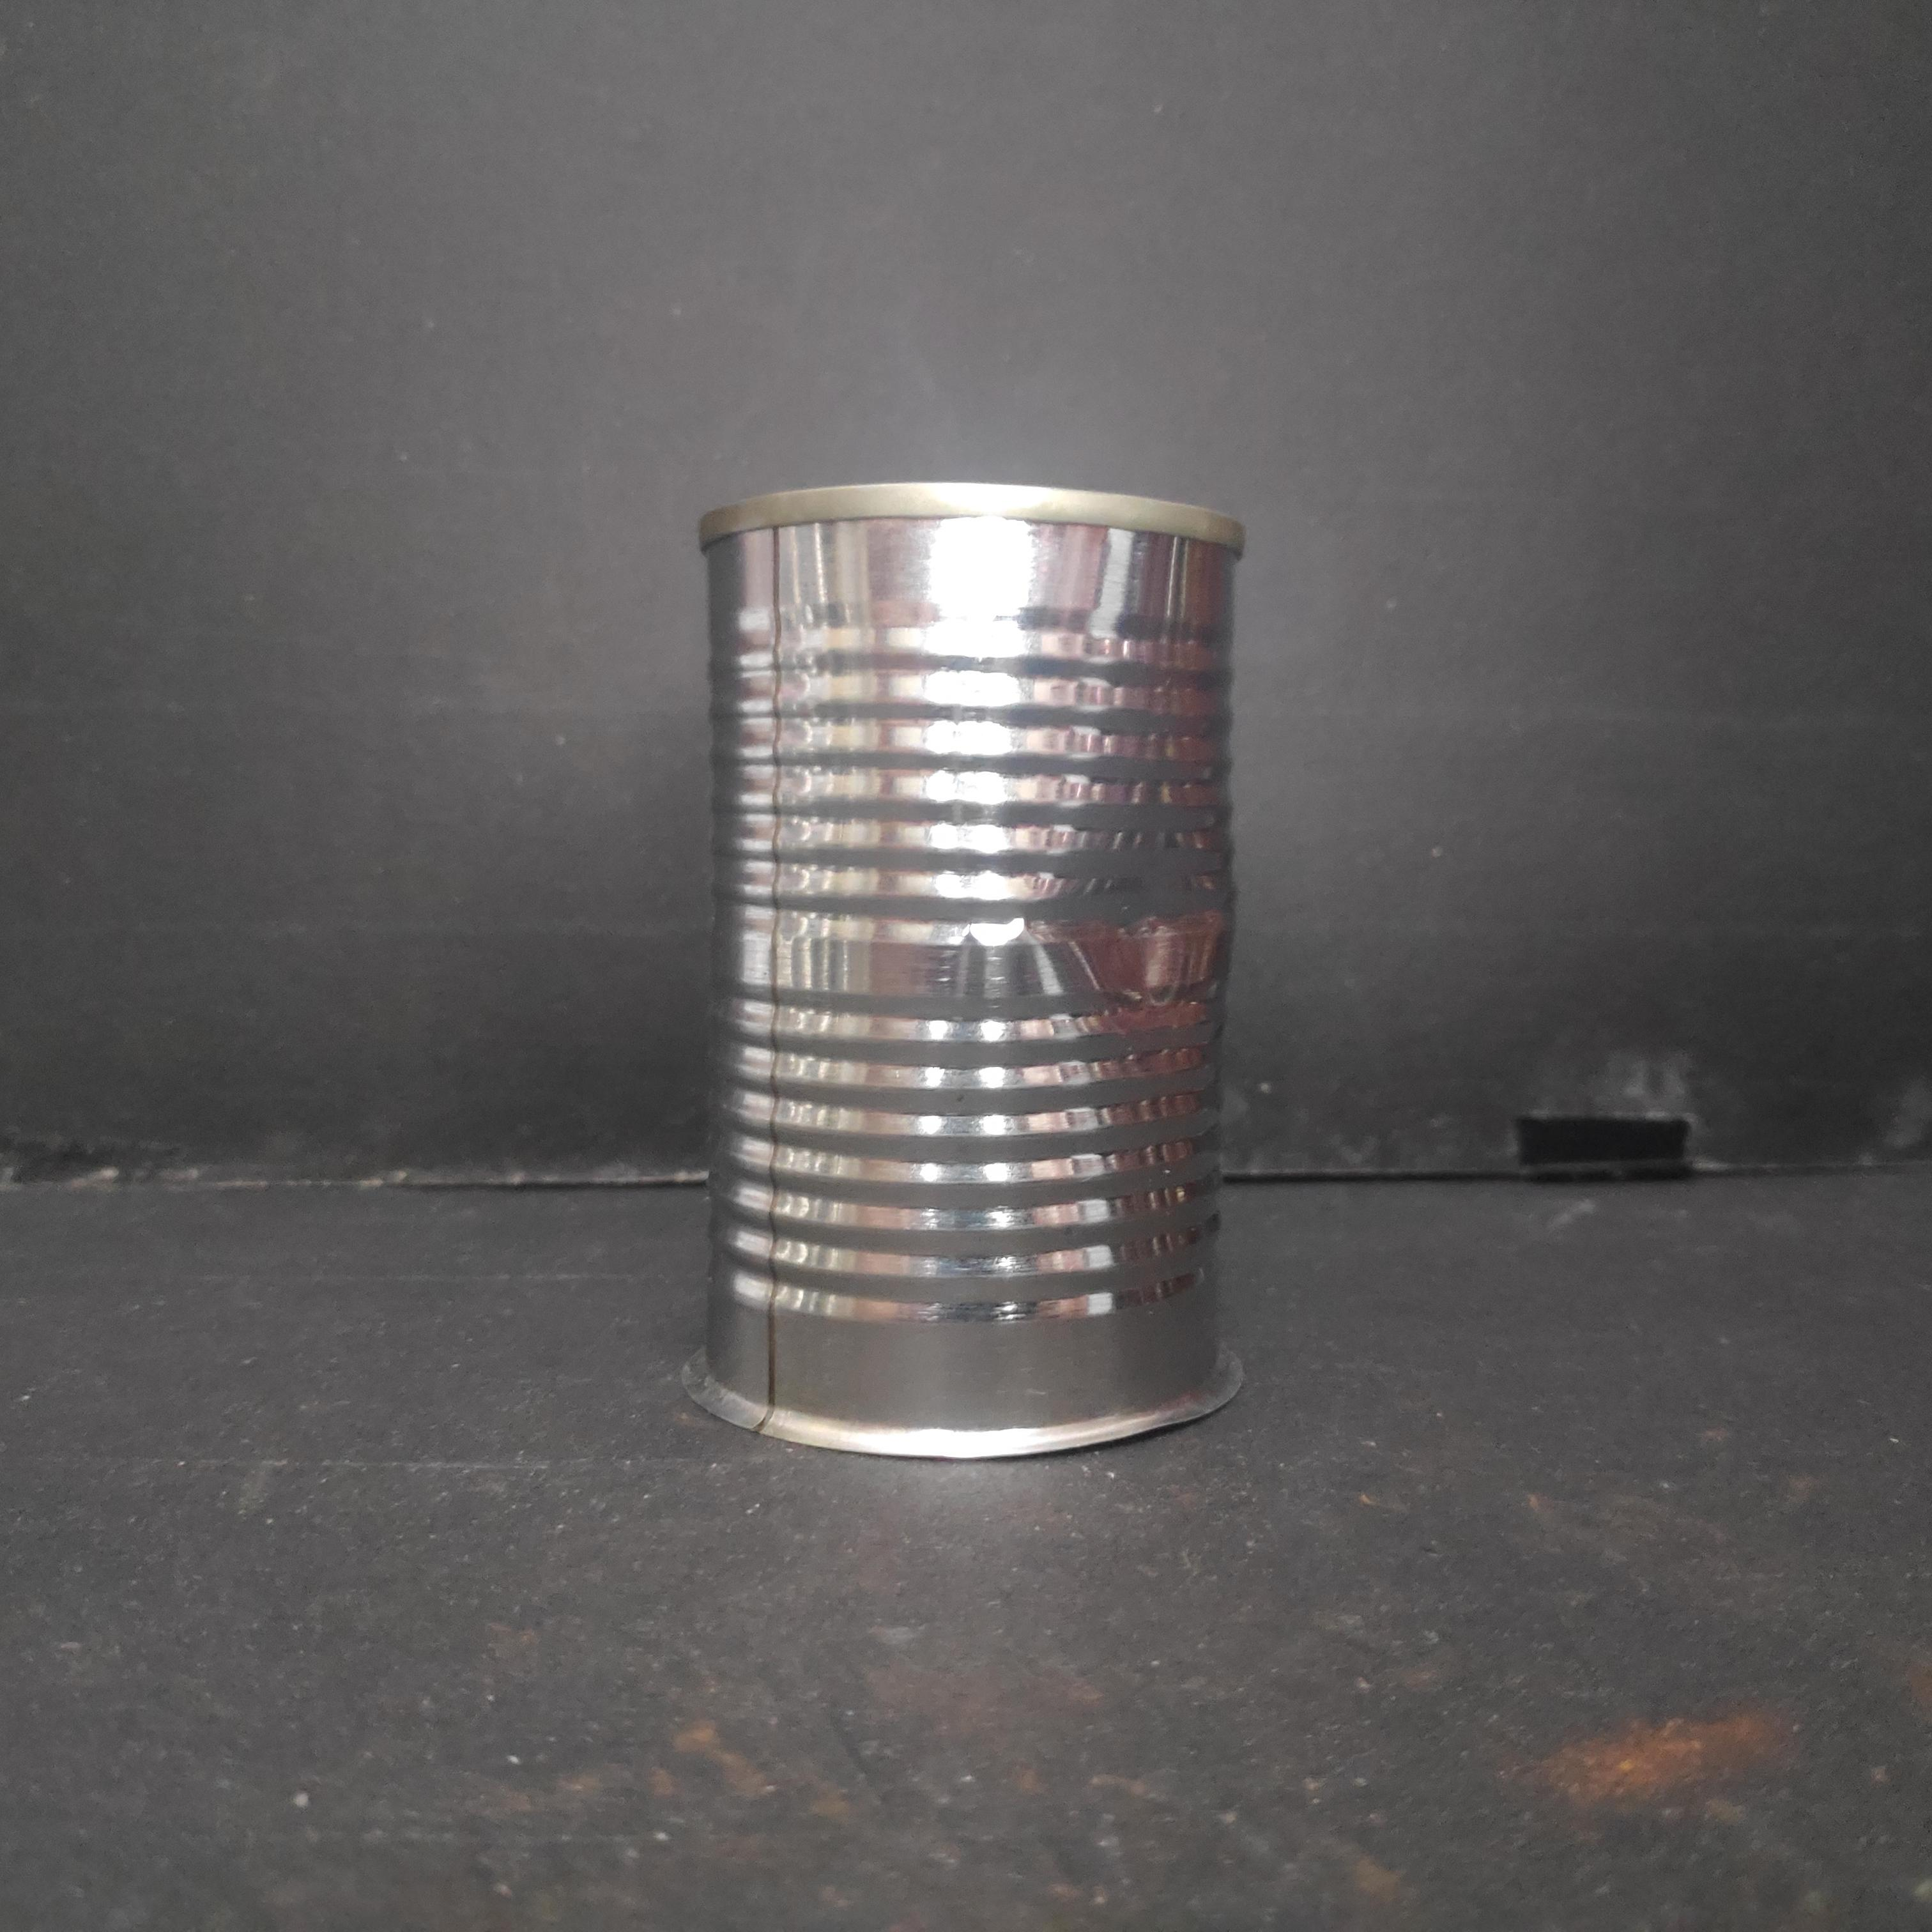Minor Defect: (688, 474, 1251, 1470)
